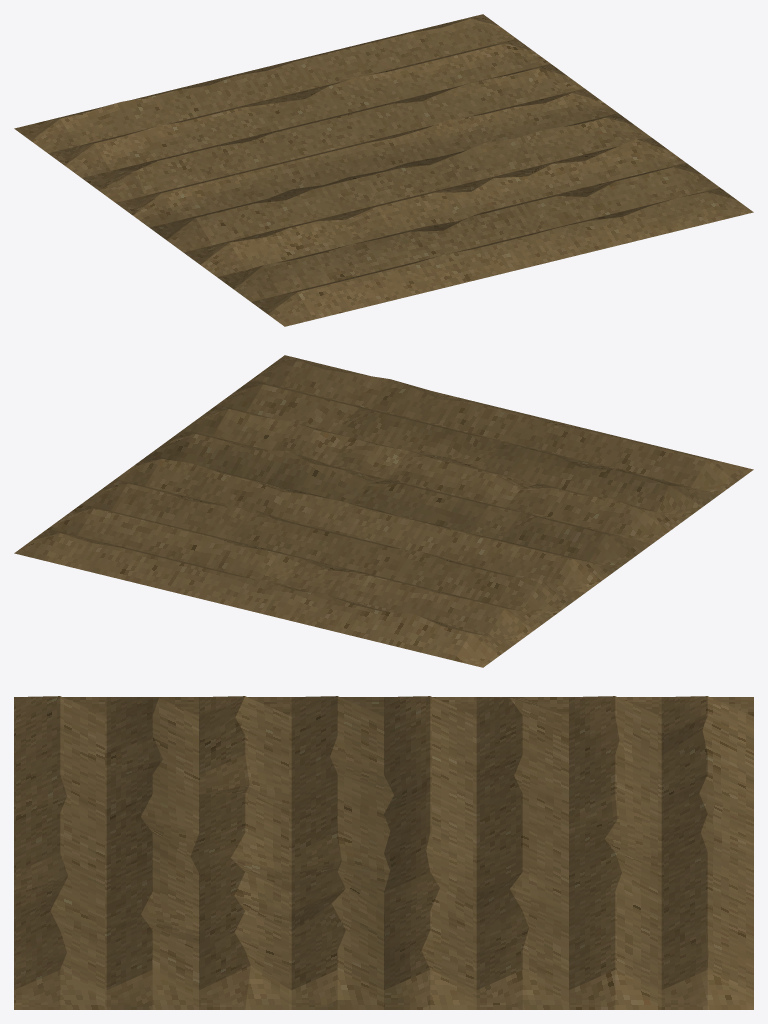
The model's file is TilledFarm.glb.
The picture shows the model from 3 angles, top to bottom: view 1: azimuth 30°, elevation 25°; view 2: azimuth 150°, elevation 25°; view 3: azimuth 270°, elevation 25°; orthographic projection. The views are drawn at different scales.
Visible parts, largest first — view 1: Plane; view 2: Plane; view 3: Plane.
Boxes of the visible parts, bbox=[...] form: Plane: bbox=[14, 14, 753, 326]; Plane: bbox=[14, 355, 753, 667]; Plane: bbox=[14, 696, 753, 1009].
Size of the model in its own units: 10 by 0.3909 by 10.
1 material, 1 textured.
